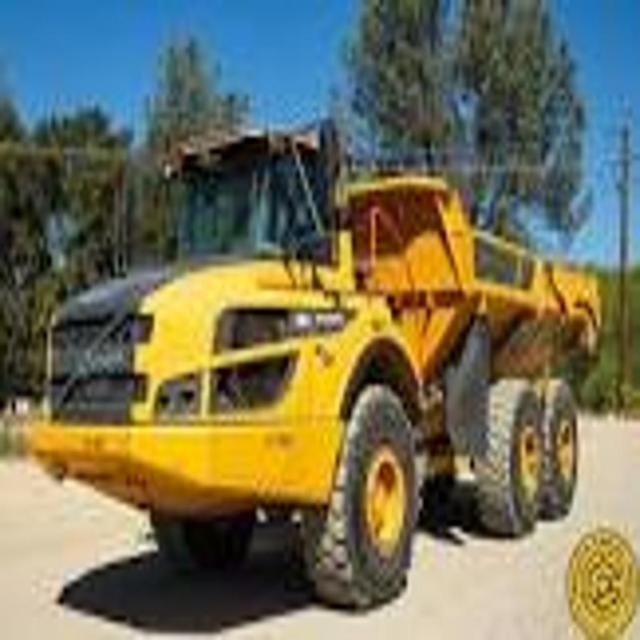dump_truck: (24, 111, 607, 610)
